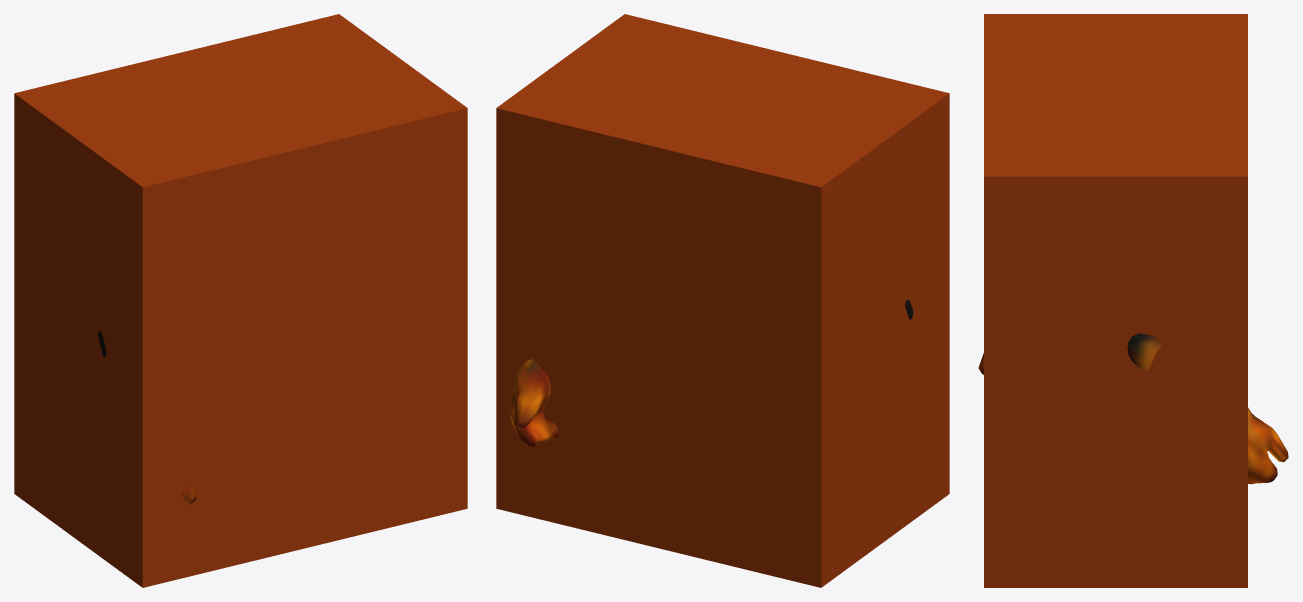
File: MagmaElemental_1_000007.obj
The picture shows the model from 3 angles, left to right: view 1: azimuth 30°, elevation 25°; view 2: azimuth 150°, elevation 25°; view 3: azimuth 270°, elevation 25°; orthographic projection. The views are drawn at different scales.
Visible parts, largest first — view 1: Cube; view 2: Cube, Elemental_FireGolem; view 3: Cube, Elemental_FireGolem.
Boxes of the visible parts, x1,y1,x2,y2 form: Cube: (14,14,467,587); Cube: (496,14,949,587); Elemental_FireGolem: (510,299,913,446); Cube: (984,14,1247,587); Elemental_FireGolem: (978,333,1288,484).
Bounding box in the file's own units: 3.37 × 3.94 × 2.69.
2 materials, 1 textured.
